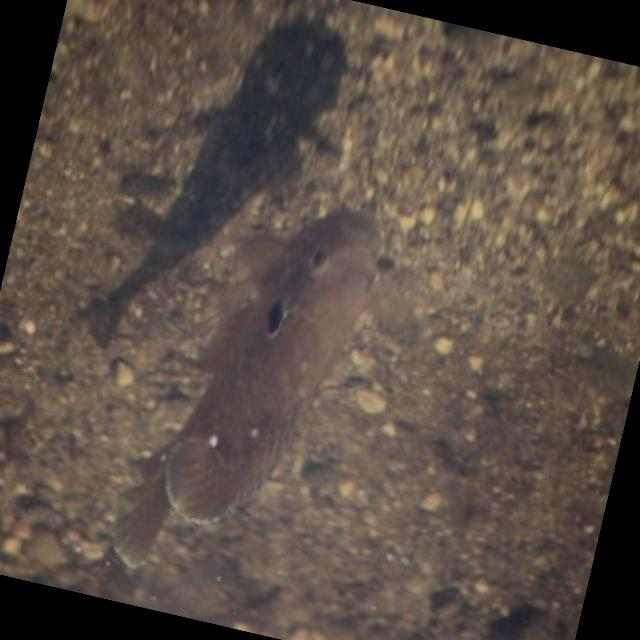Gunes Levregi: (94, 157, 404, 616)
